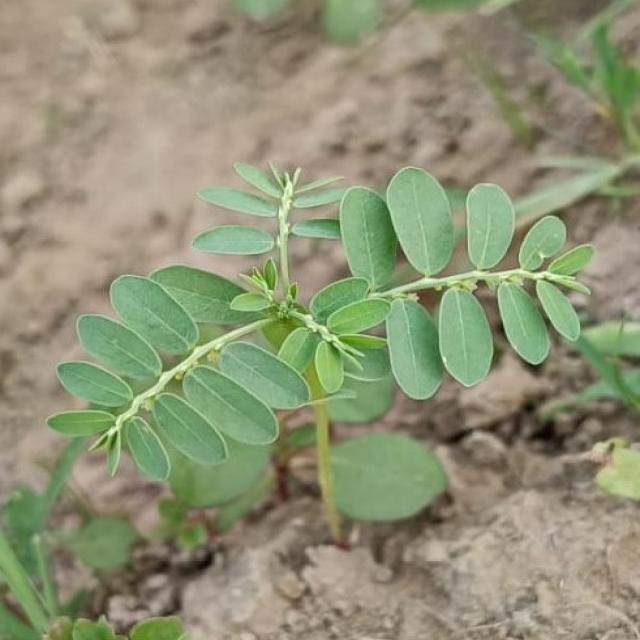plant: (49, 164, 590, 527)
